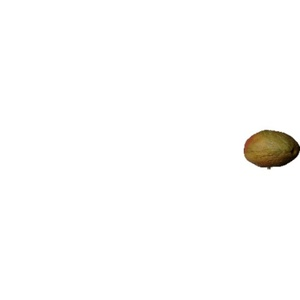mamão: (242, 129, 297, 169)
